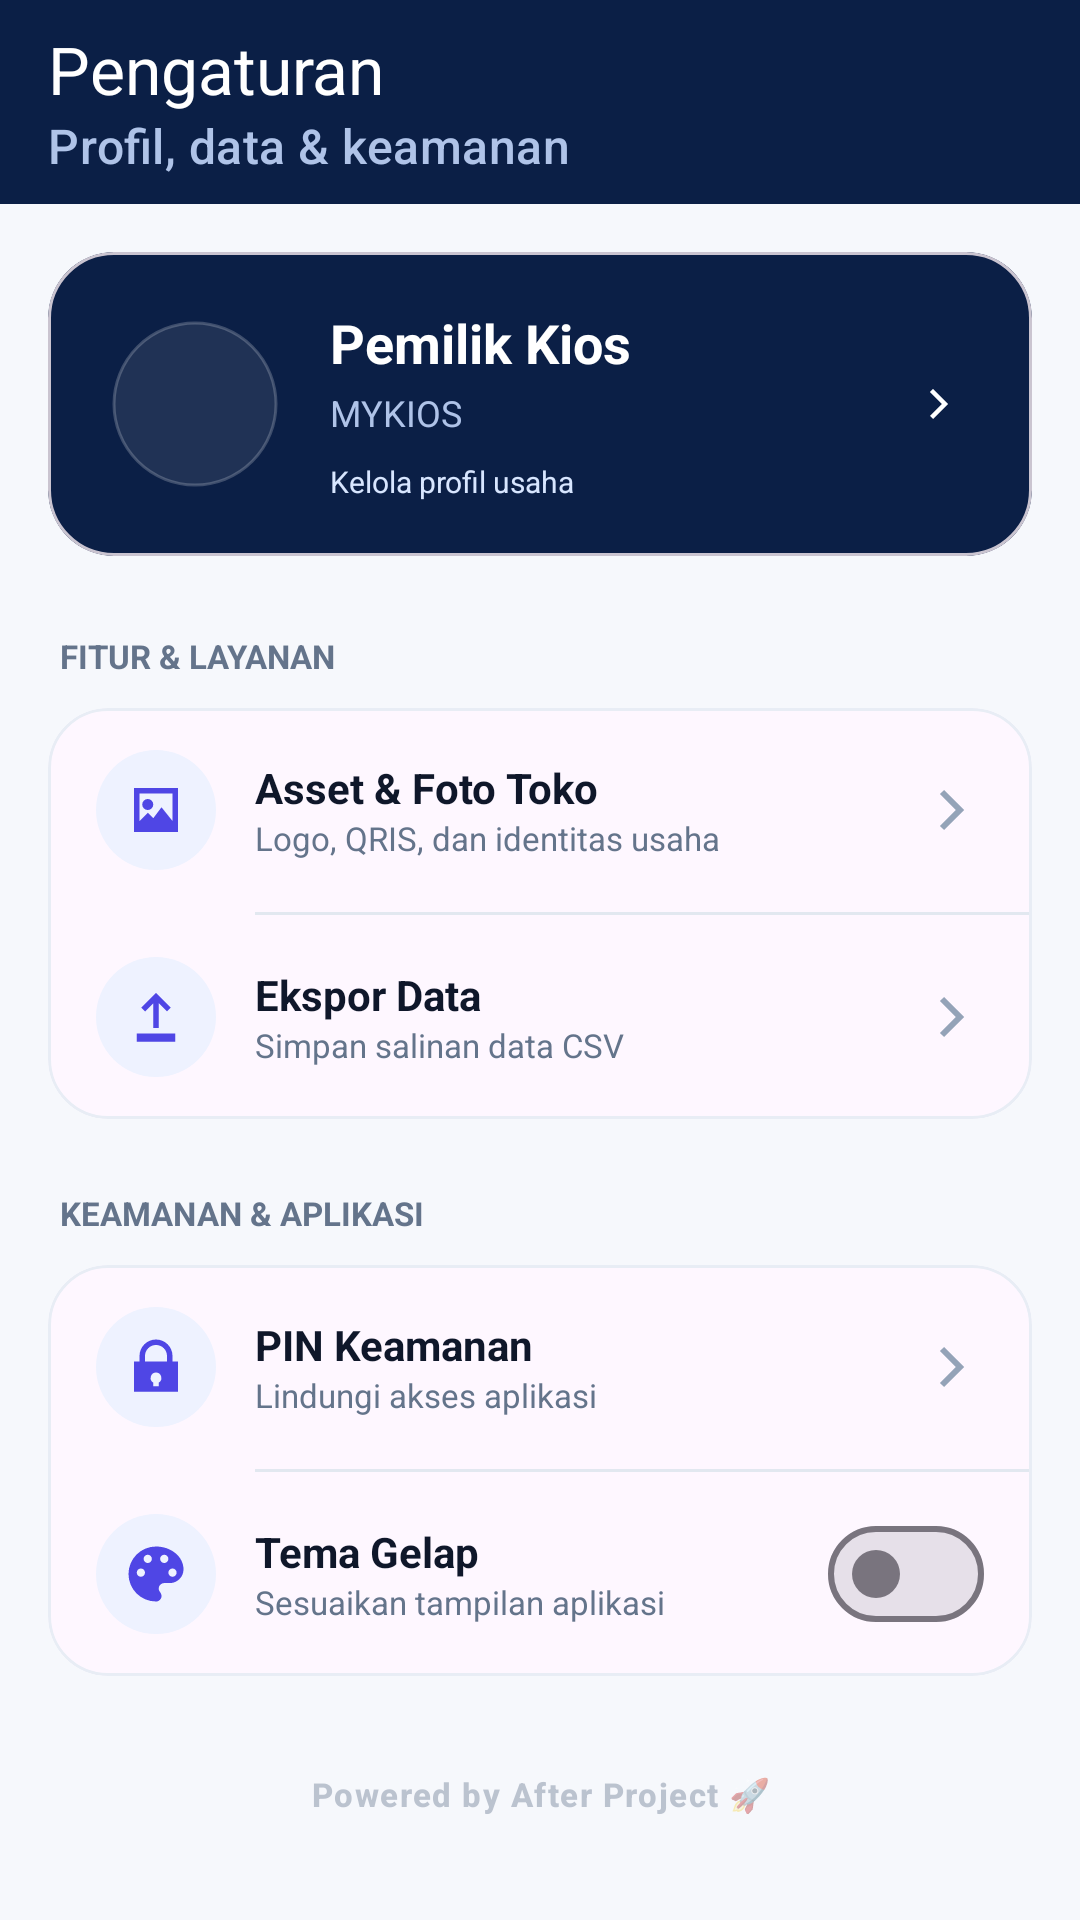

Named icons in this screenshot (1080x1920) and their bounding boxes, (x1, y1, x2, y2):
chevron: (930, 389, 948, 419), (940, 790, 964, 830), (940, 997, 964, 1037), (940, 1347, 964, 1387)
export: (96, 957, 216, 1077)
lock: (134, 1339, 178, 1392)
theme: (128, 1546, 184, 1602)
